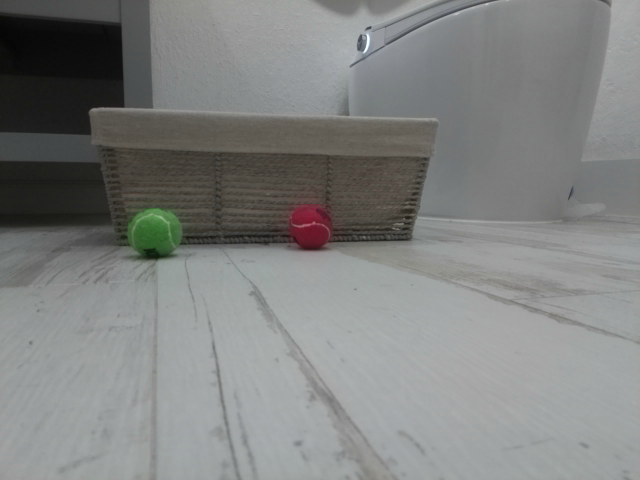green-ball: (126, 206, 184, 261)
red-ball: (287, 202, 334, 252)
